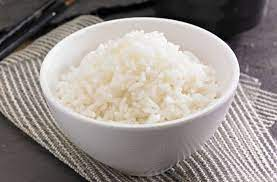ssalbab: (53, 25, 227, 124)
